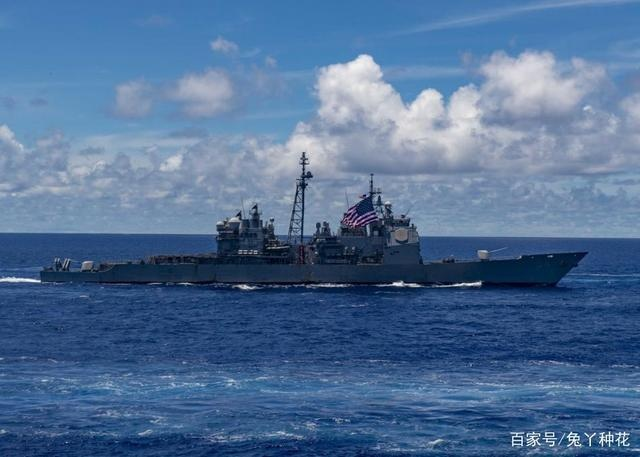warship: (34, 157, 591, 289)
